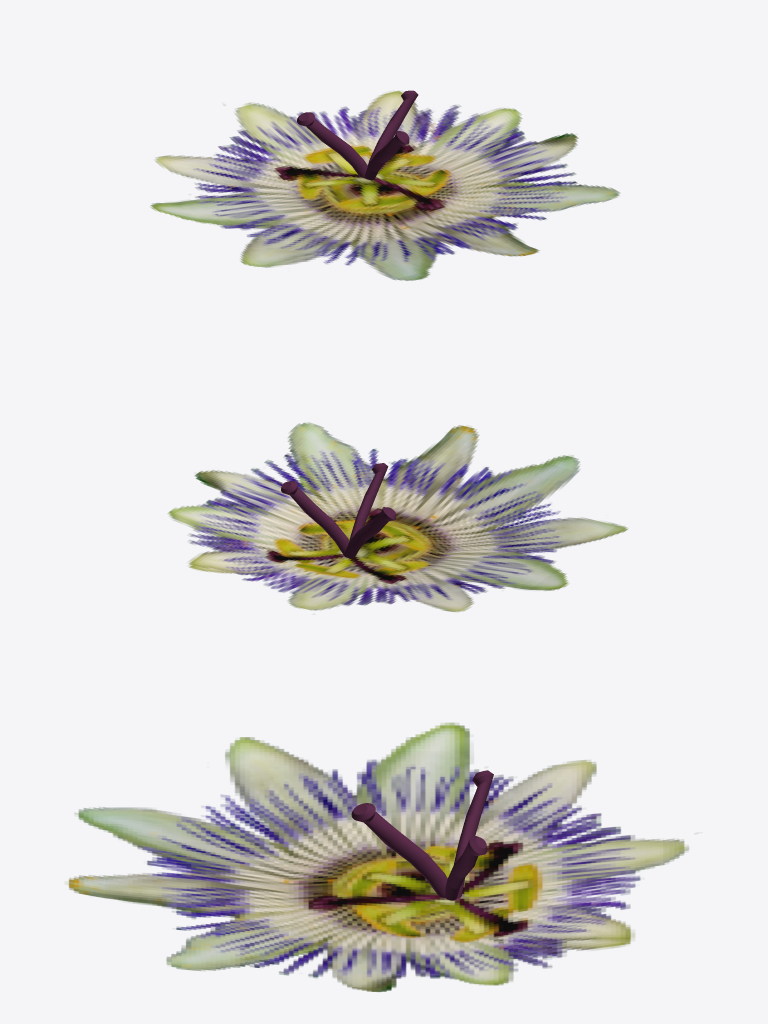
File: waterflower.glb
The picture shows the model from 3 angles, top to bottom: view 1: azimuth 30°, elevation 25°; view 2: azimuth 150°, elevation 25°; view 3: azimuth 270°, elevation 25°; orthographic projection. The views are drawn at different scales.
Visible parts, largest first — view 1: Cylinder.002; view 2: Cylinder.002; view 3: Cylinder.002.
Boxes of the visible parts, x1,y1,x2,y2 form: Cylinder.002: (150, 90, 619, 280); Cylinder.002: (168, 422, 627, 612); Cylinder.002: (68, 722, 688, 991).
Bounding box in the file's own units: 1.98 × 0.2893 × 1.98.
Materials: 4 (1 with a texture image).
